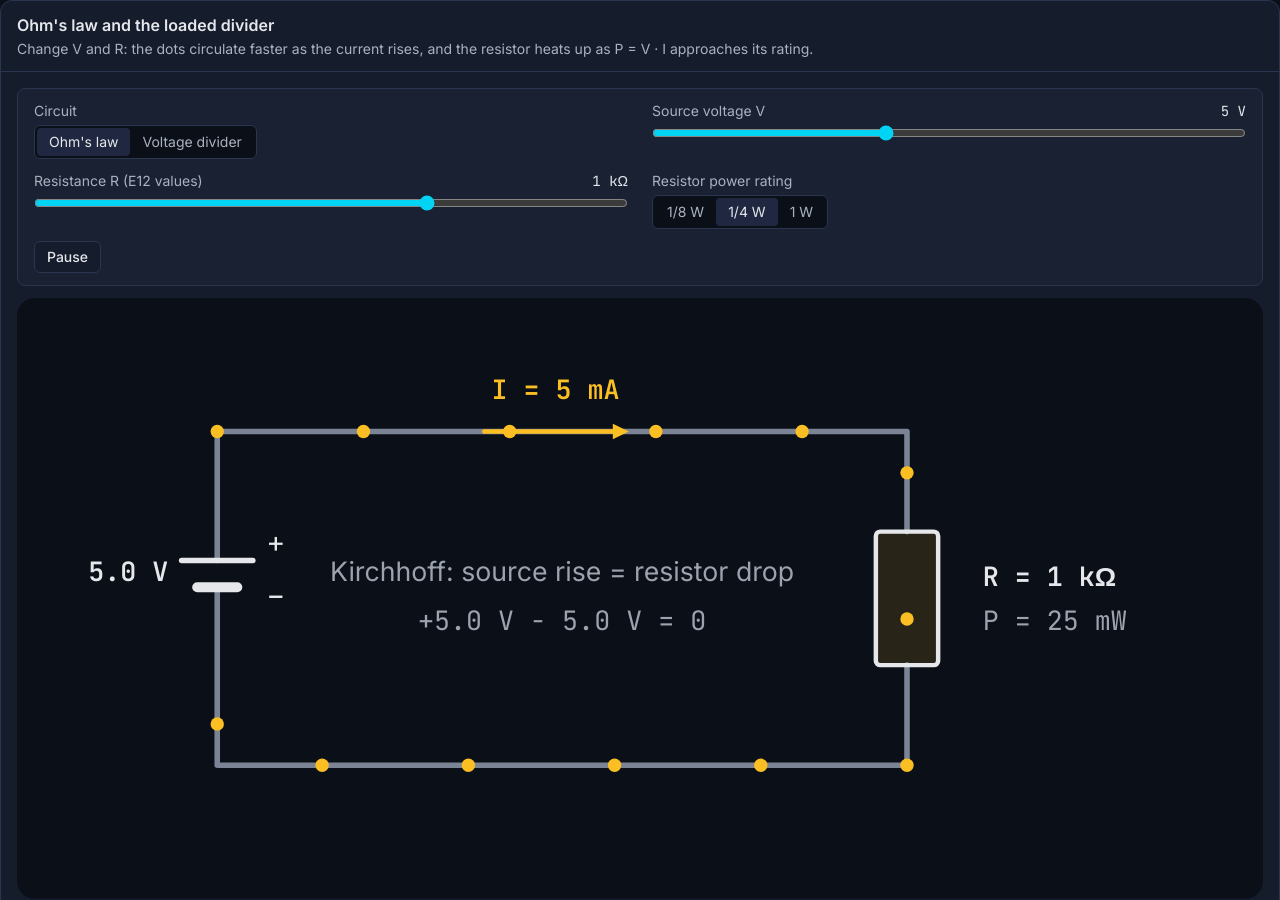
OhmsLawCircuit › flags a resistor that is pushed past its rating
The image size is (1280, 900).
Set the slider labelled "Source voltage V 5 V" to "12" at (1238, 133), box [652,125,1246,141]
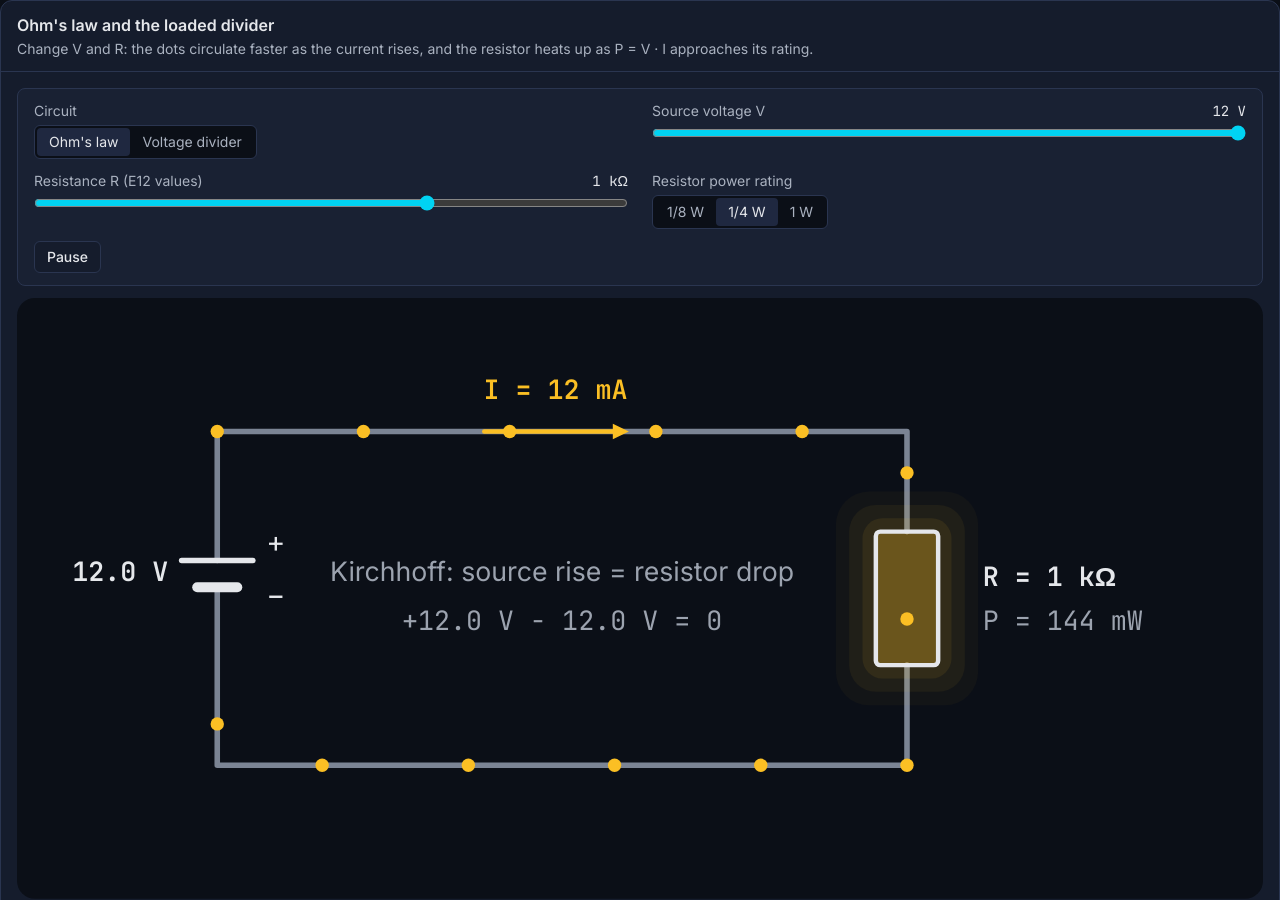
Set the slider labelled "Resistance R (E12 values) 1 kΩ" to "10" at (203, 203), box [34,195,628,211]
(page scrolled)
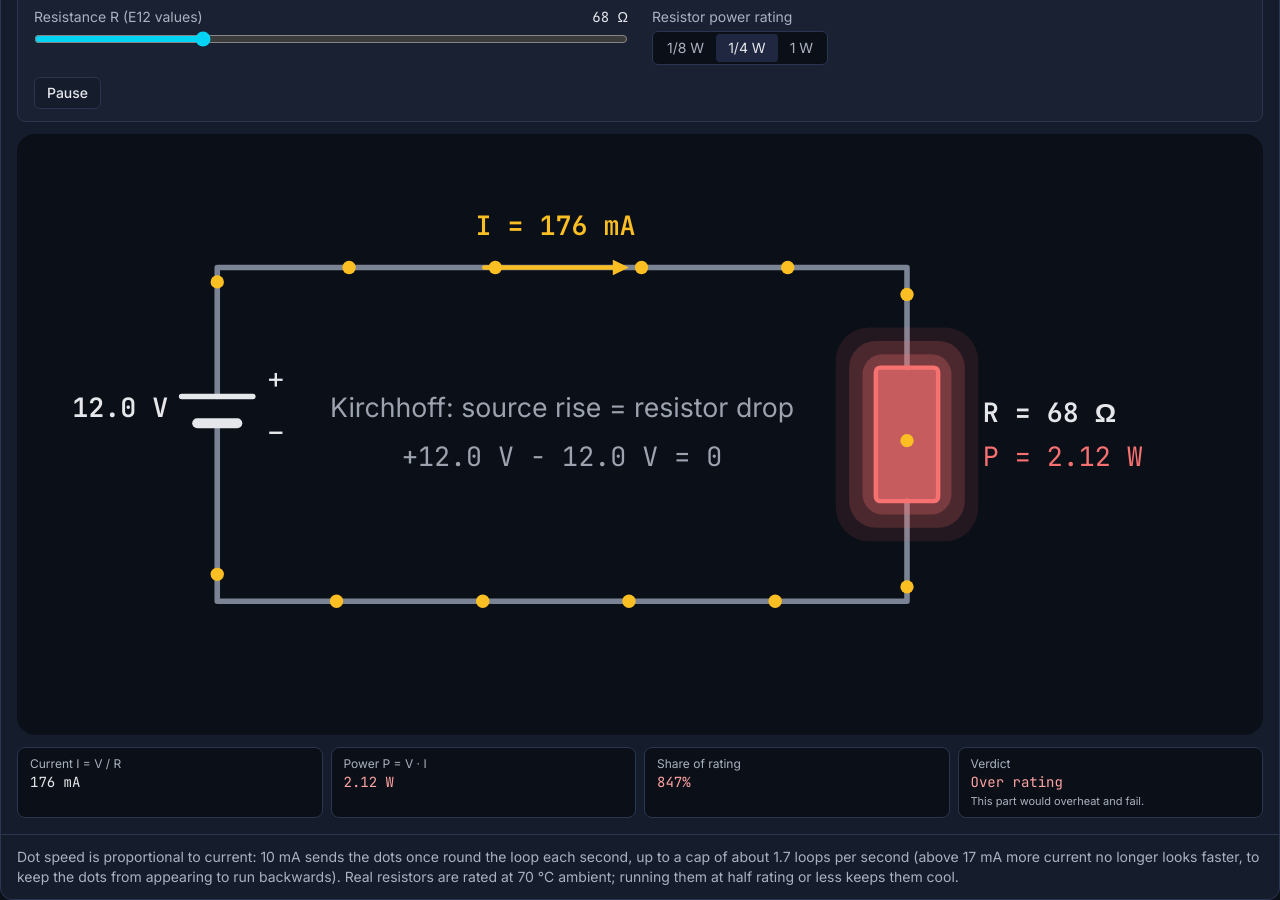
Now the text "176 mA" is shown, box [30,773,80,791]
Now the text "Over rating" is shown, box [970,773,1063,791]
